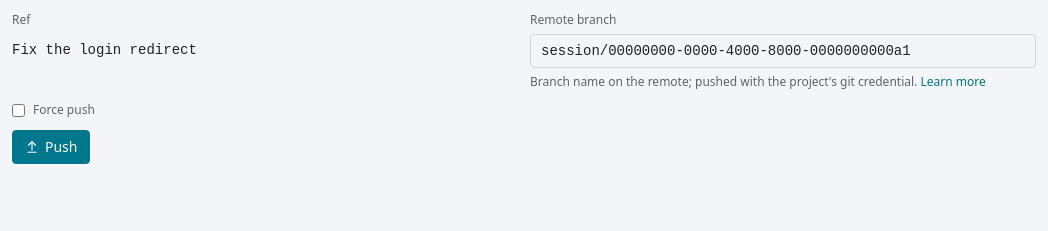
Test: PushForm › explains a rejected push as the only answer on screen
Click the button "Push": {"x": 51, "y": 147} [12, 130, 90, 164]
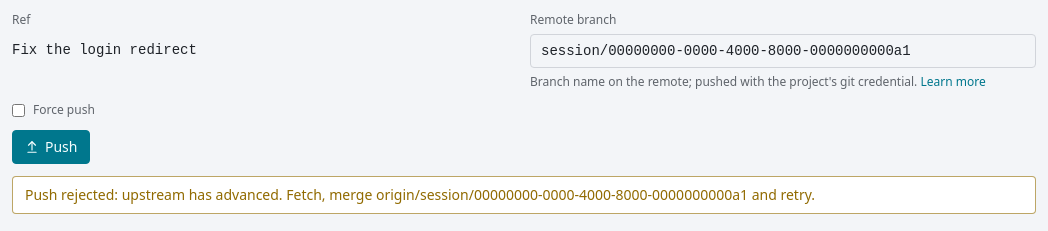
Expected: the text "Push rejected: upstream has advanced." is shown, [25, 185, 815, 204]
